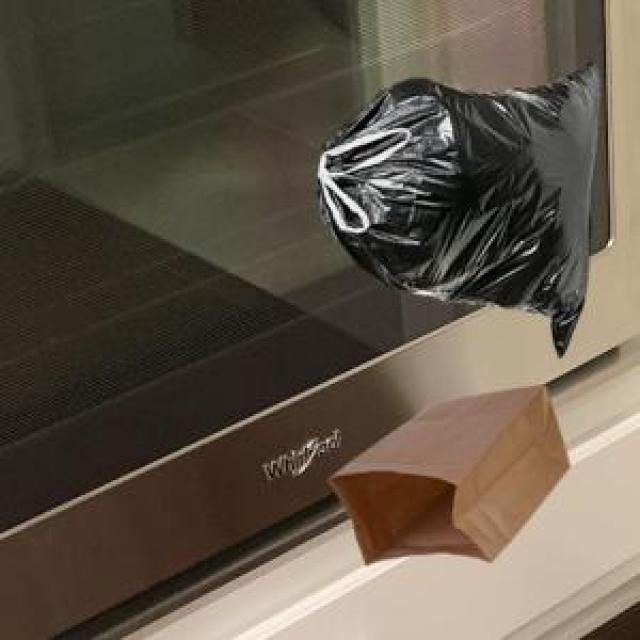miscellaneous trash: (314, 58, 595, 354)
paper: (324, 380, 565, 561)
